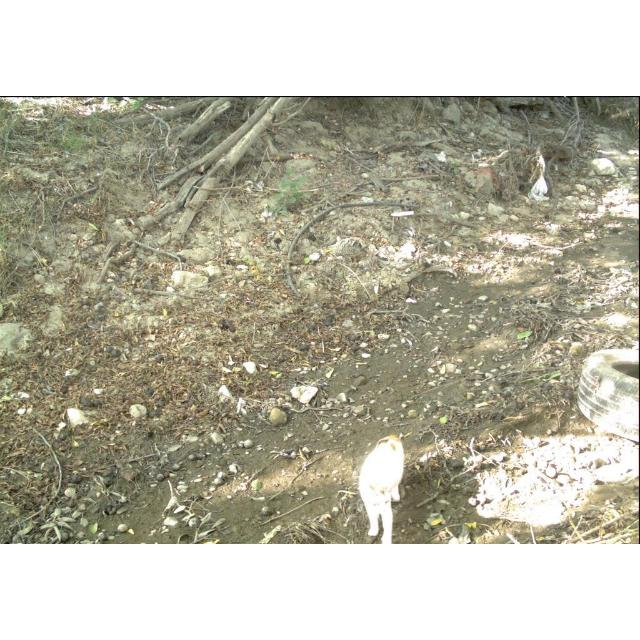animals: (358, 434, 406, 544)
